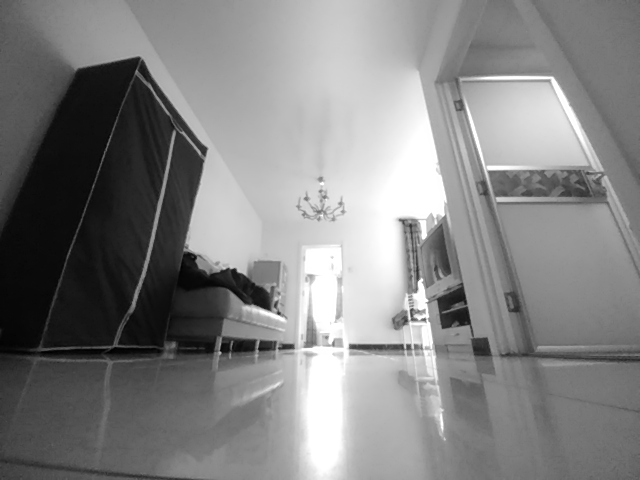curtain: (303, 275, 318, 348)
